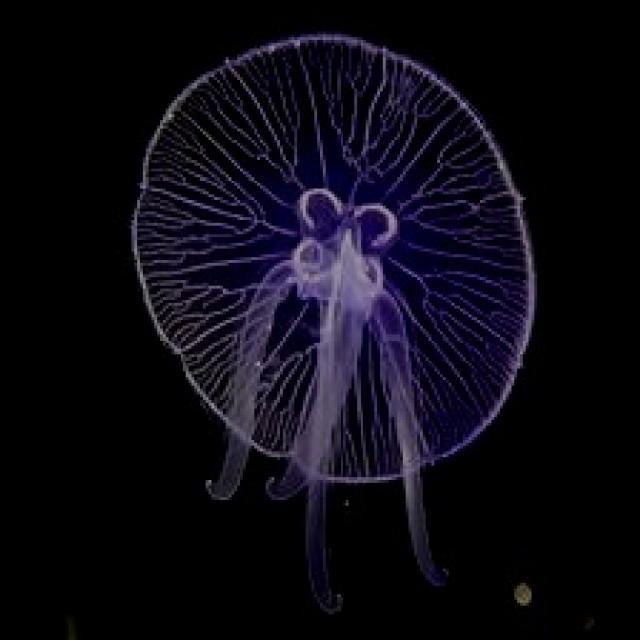Jellyfish: (129, 31, 537, 612)
